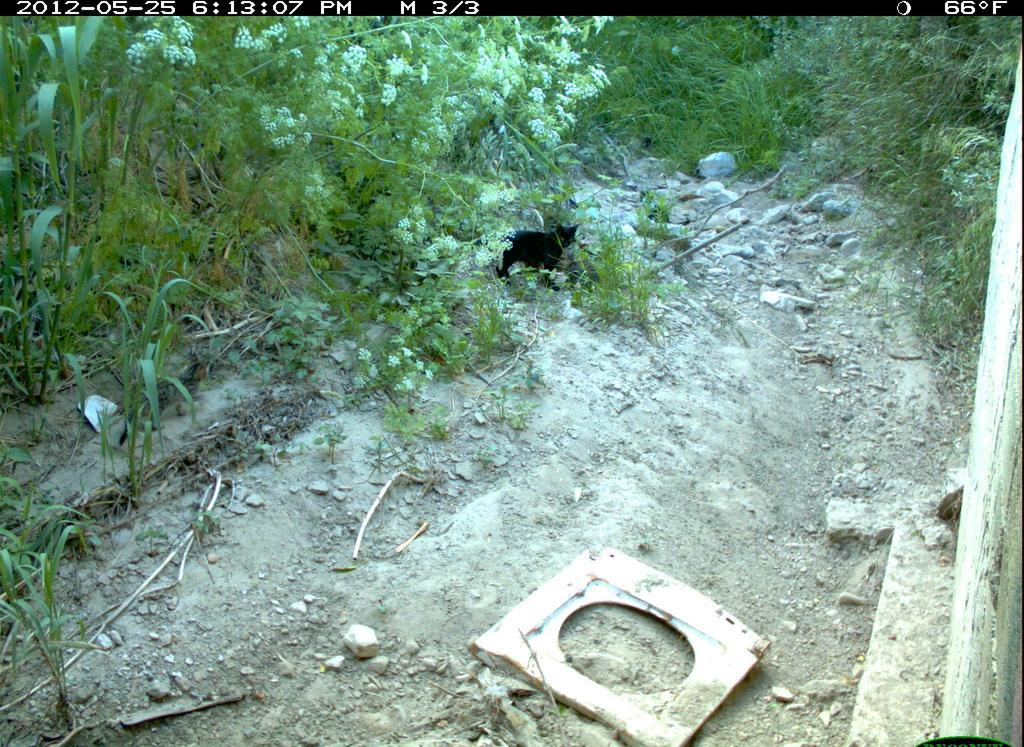cat: (482, 212, 611, 315)
